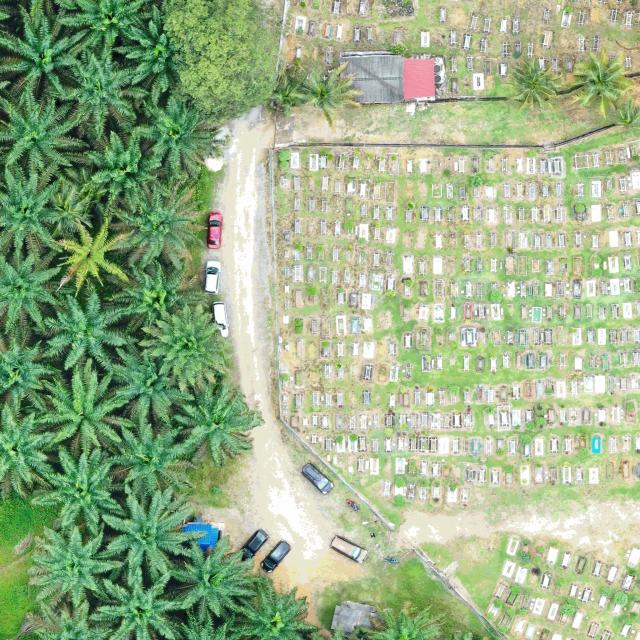Tree: (160, 0, 277, 122), (29, 352, 139, 462), (98, 483, 210, 583), (160, 368, 265, 470), (27, 443, 132, 536), (110, 178, 211, 271), (48, 45, 150, 137), (42, 280, 141, 372), (25, 521, 126, 611), (158, 533, 262, 620), (0, 152, 80, 264), (105, 332, 196, 429), (75, 125, 174, 213), (0, 83, 90, 178), (0, 6, 86, 102), (104, 417, 200, 500), (138, 92, 229, 178), (140, 304, 232, 388), (100, 254, 198, 332), (0, 244, 79, 340), (51, 214, 136, 298), (227, 577, 327, 640), (110, 10, 183, 94), (0, 399, 58, 503), (0, 318, 64, 411), (90, 568, 168, 640), (49, 0, 158, 51), (301, 58, 365, 128), (571, 49, 634, 119), (38, 178, 98, 237), (505, 56, 560, 109), (258, 71, 308, 113)
